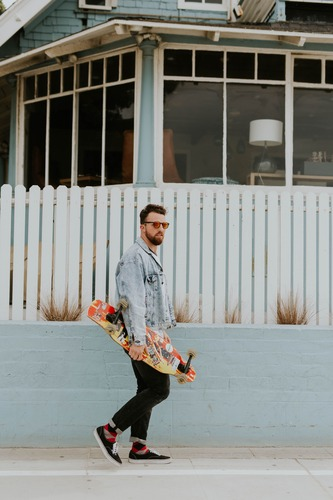without_mask: (146, 216, 167, 244)
